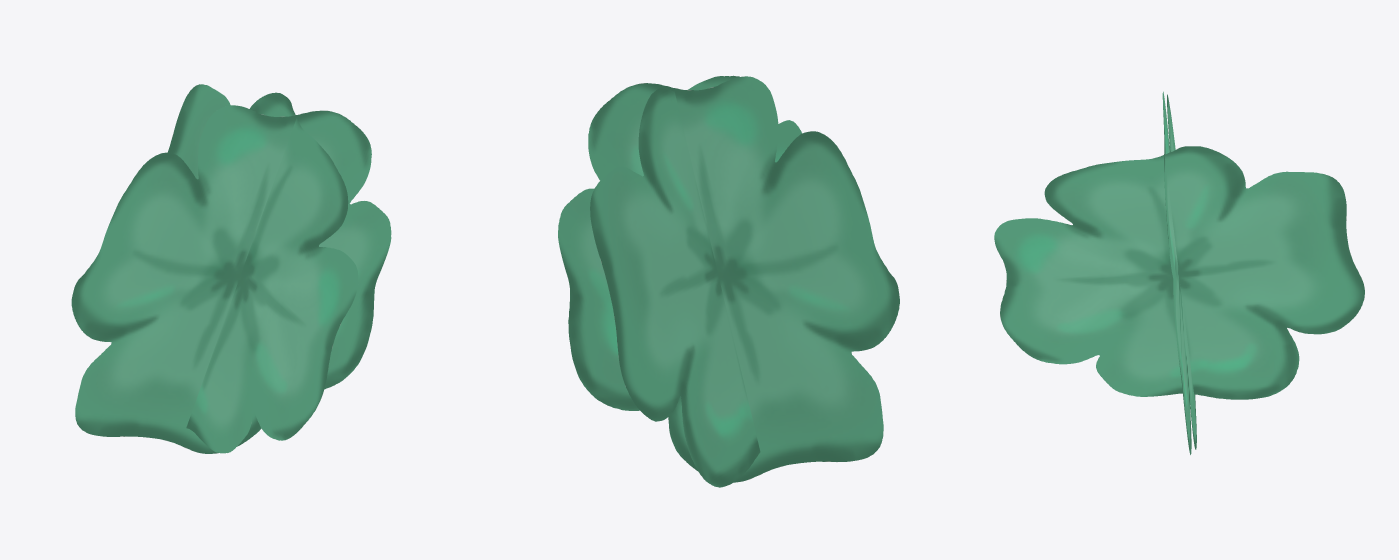
The model's file is Trebol_4Hojas.fbx.
3 renders of one model, left to right at view 1: azimuth 30°, elevation 25°; view 2: azimuth 150°, elevation 25°; view 3: azimuth 270°, elevation 25°, orthographic. The views are drawn at different scales.
Parts seen in each view (by area): view 1: Trebol_4Hojas; view 2: Trebol_4Hojas; view 3: Trebol_4Hojas.
Boxes of the visible parts, x1=… form: Trebol_4Hojas: x1=71, y1=84, x2=391, y2=453; Trebol_4Hojas: x1=558, y1=75, x2=899, y2=487; Trebol_4Hojas: x1=994, y1=91, x2=1364, y2=454.
Bounding box in the file's own units: 81.55 × 81.28 × 70.04.
